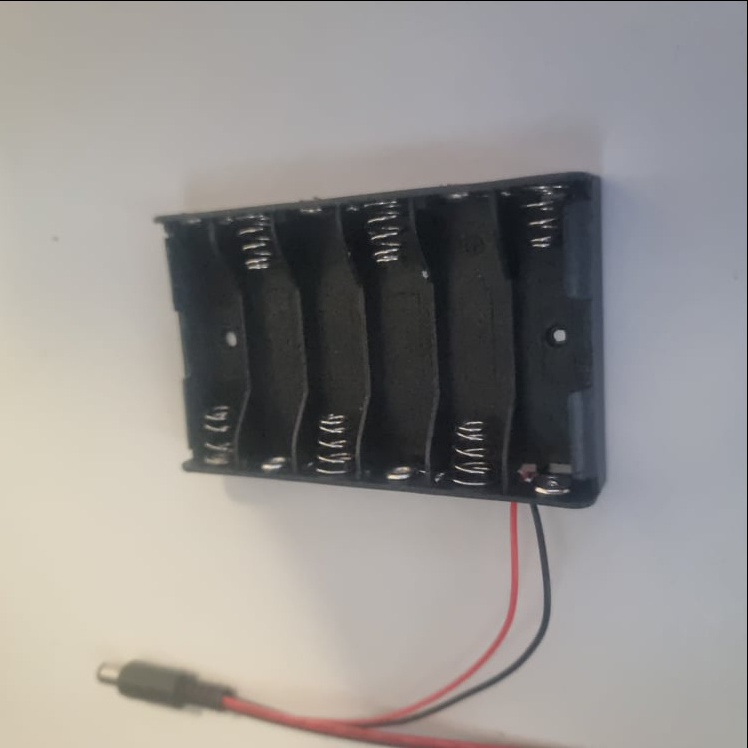BATTERY BOX: (154, 168, 606, 509)
